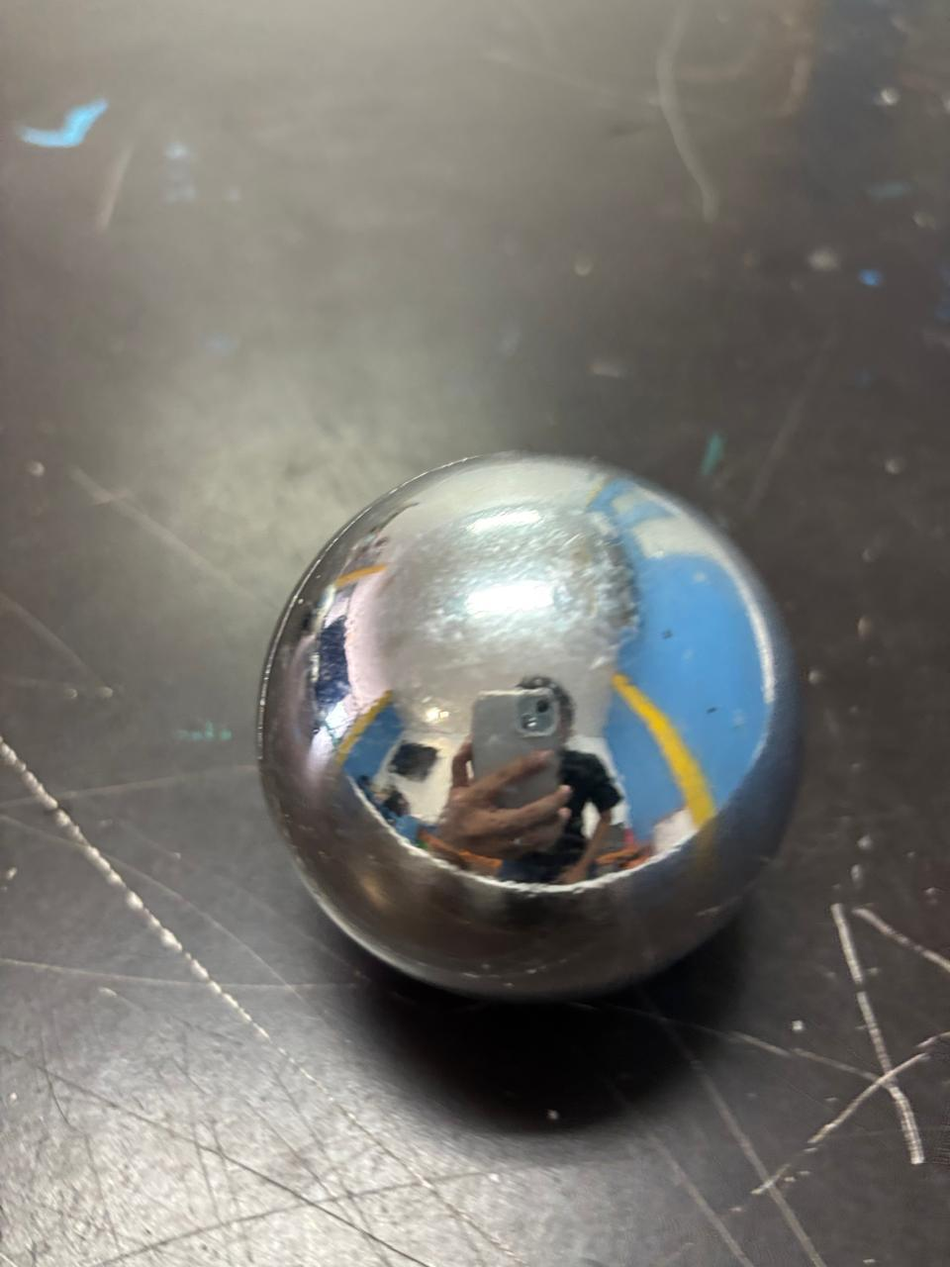steelball: (252, 446, 805, 1003)
